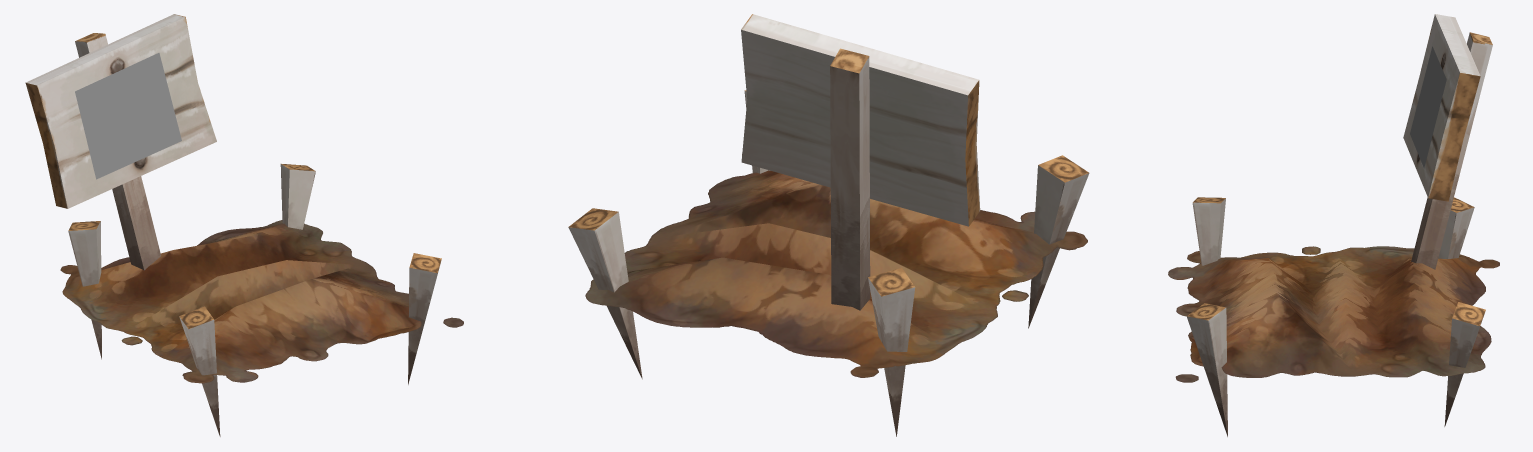
File: ground.FBX
The picture shows the model from 3 angles, left to right: view 1: azimuth 30°, elevation 25°; view 2: azimuth 150°, elevation 25°; view 3: azimuth 270°, elevation 25°; orthographic projection. The views are drawn at different scales.
Visible parts, largest first — view 1: ground; view 2: ground; view 3: ground.
Boxes of the visible parts, box(x1,y1,x2,y2) form: ground: box(25, 14, 463, 436); ground: box(568, 14, 1089, 436); ground: box(1168, 14, 1499, 436).
Size of the model in its own units: 6.19 by 5.76 by 5.94.
